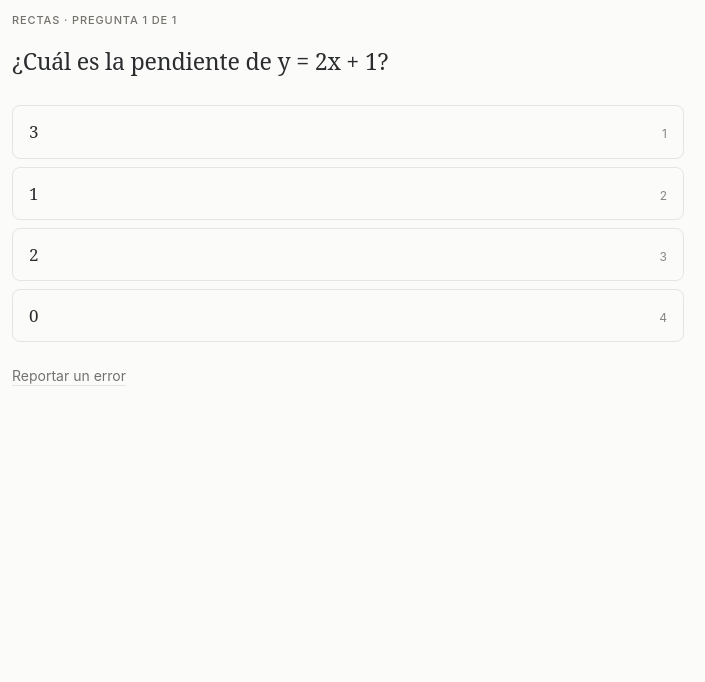
Test: Práctica v2: ronda 1 › error dudando dice que no es correcta y marca la opción como incorrecta
This screenshot has width=705, height=682.
Expected: the heading "¿Cuál es la pendiente de y = 2x + 1?" is shown, [12,45,388,77]
Click the button "1 2" at (34, 193), box [12,167,684,220]
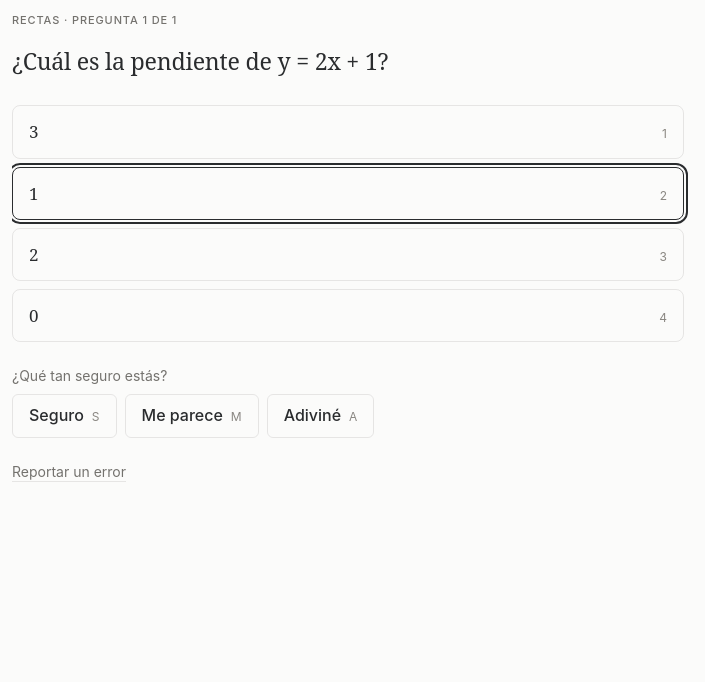
Click the button "Me parece M" at (192, 416), box [124,394,259,438]
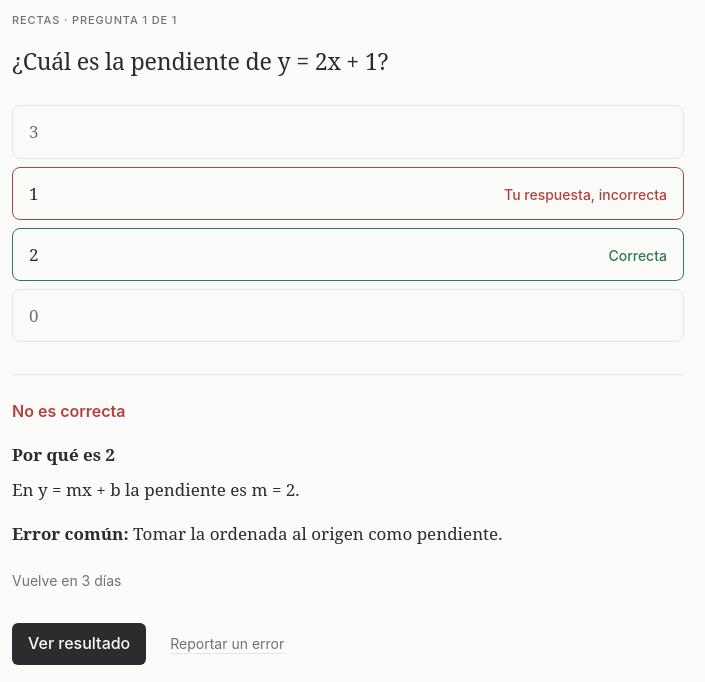
Expected: the text "No es correcta" is shown, [12,401,126,421]
Expected: the text "Tu respuesta, incorrecta" is shown, [504,185,667,205]
